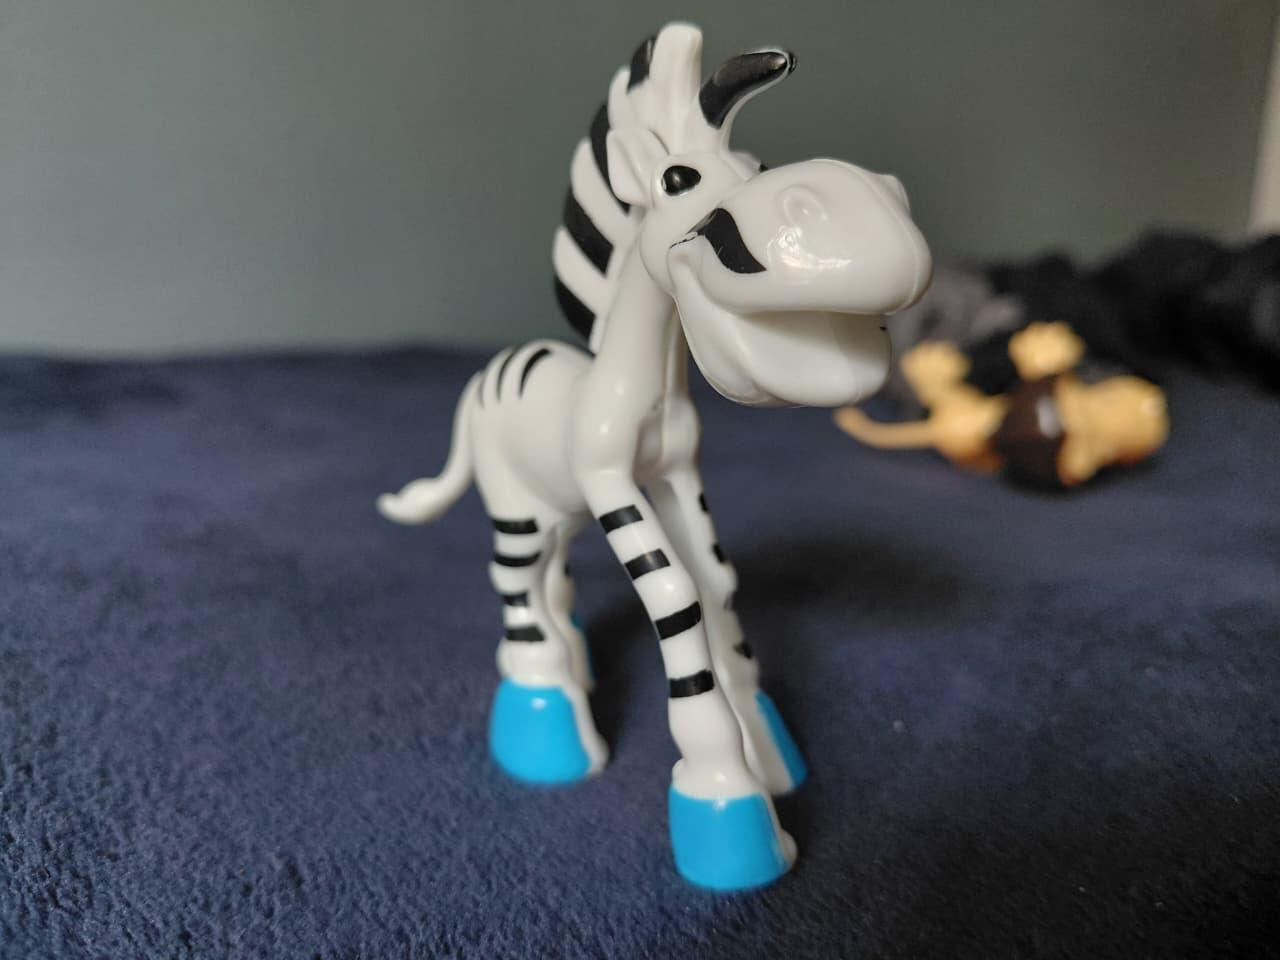zebra: (384, 24, 933, 894)
